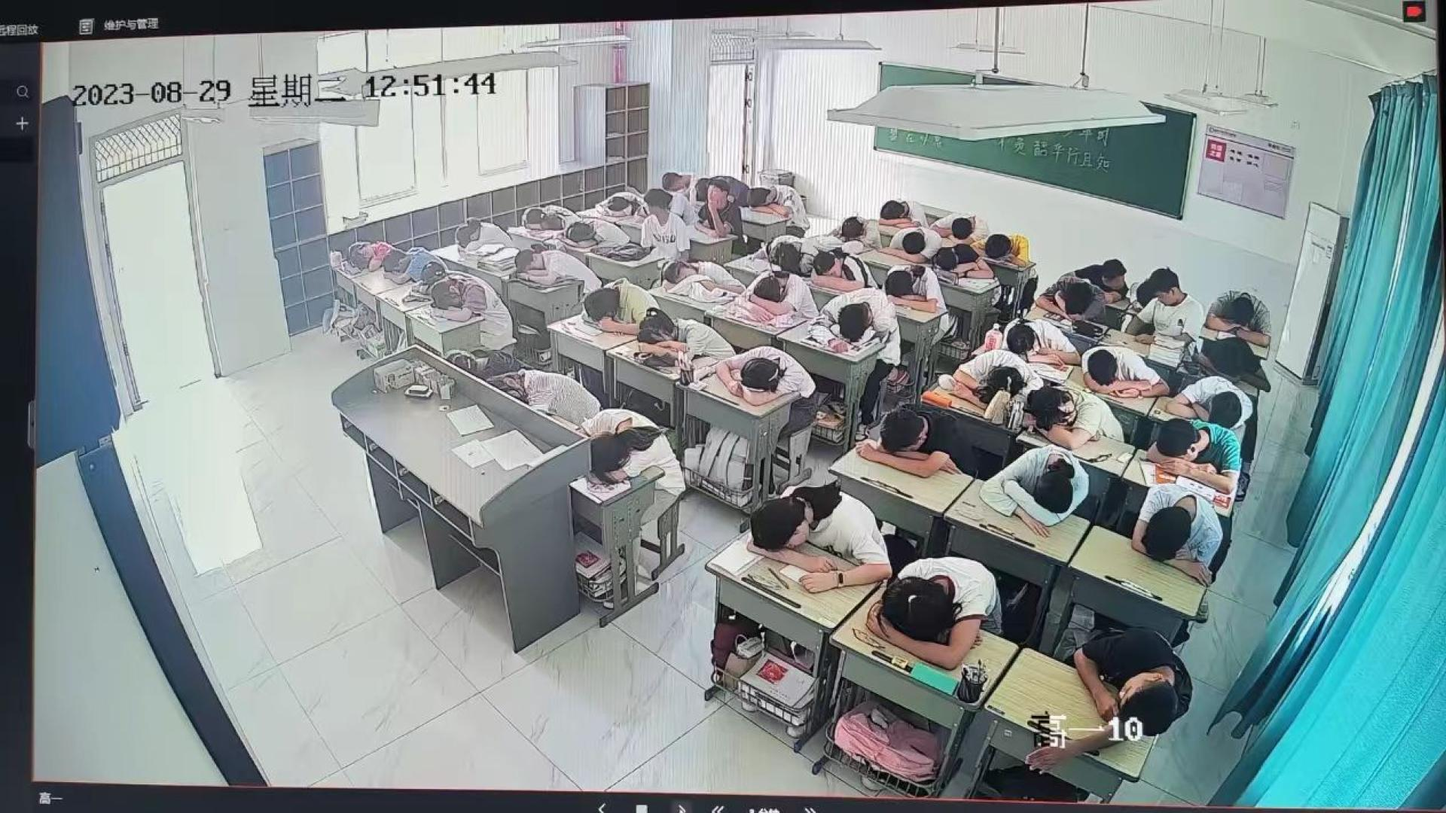Bend Over The Desk: (1055, 616, 1188, 749), (751, 469, 874, 589), (879, 550, 994, 657), (1128, 477, 1218, 570), (992, 437, 1081, 523), (864, 394, 945, 477), (815, 286, 892, 362), (727, 337, 804, 409), (639, 300, 705, 379), (588, 405, 656, 476), (1208, 279, 1274, 340), (957, 343, 1017, 406), (446, 209, 509, 264), (513, 239, 573, 296), (745, 271, 802, 329), (435, 273, 501, 320), (588, 273, 634, 336), (982, 224, 1040, 269), (383, 245, 432, 285)
Look Around: (1137, 260, 1191, 339), (635, 190, 685, 264)
Wave: (702, 193, 728, 240)
